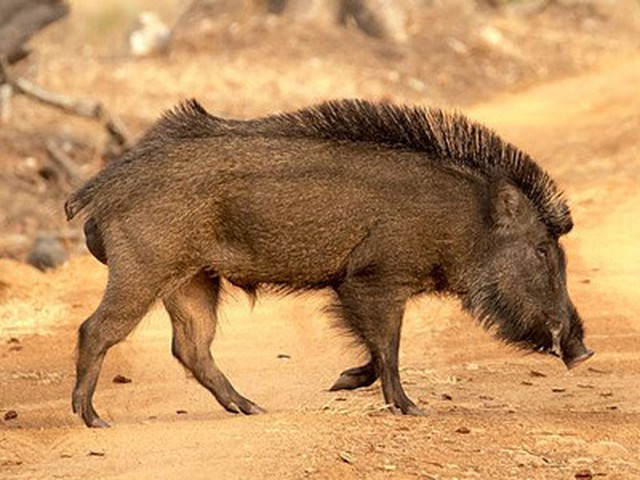Pig: (57, 89, 607, 413)
